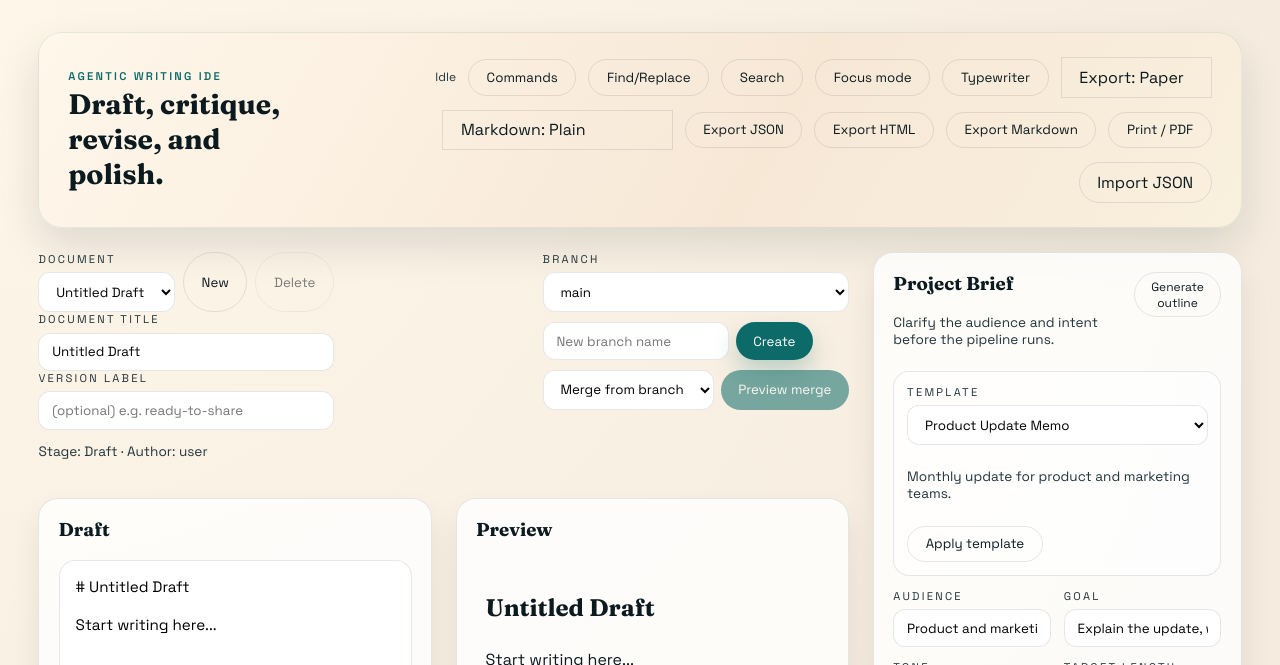
Scenario: App › runs actions from command palette
Click the button "Commands": (522, 77) [468,59,576,96]
(page scrolled)
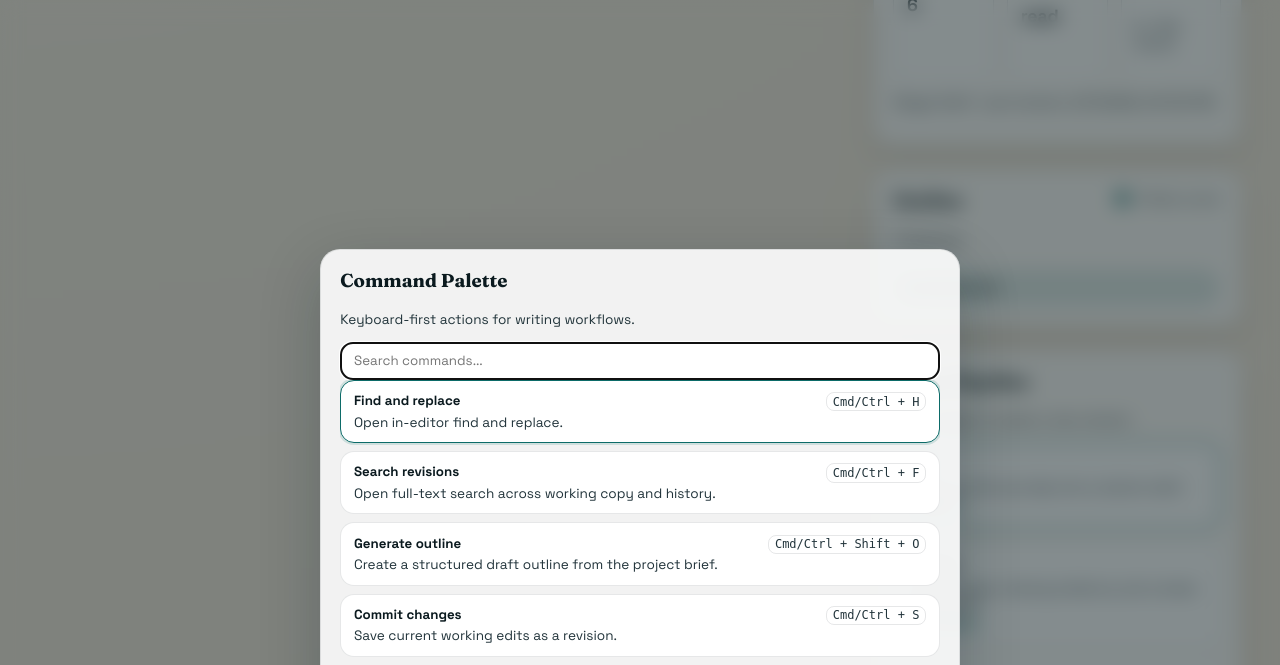
Check: the heading "Command Palette" is shown, box [340,270,507,292]
In the field labelled "Search commands...": (640, 361) [340,342,940,380], type "focus mode"
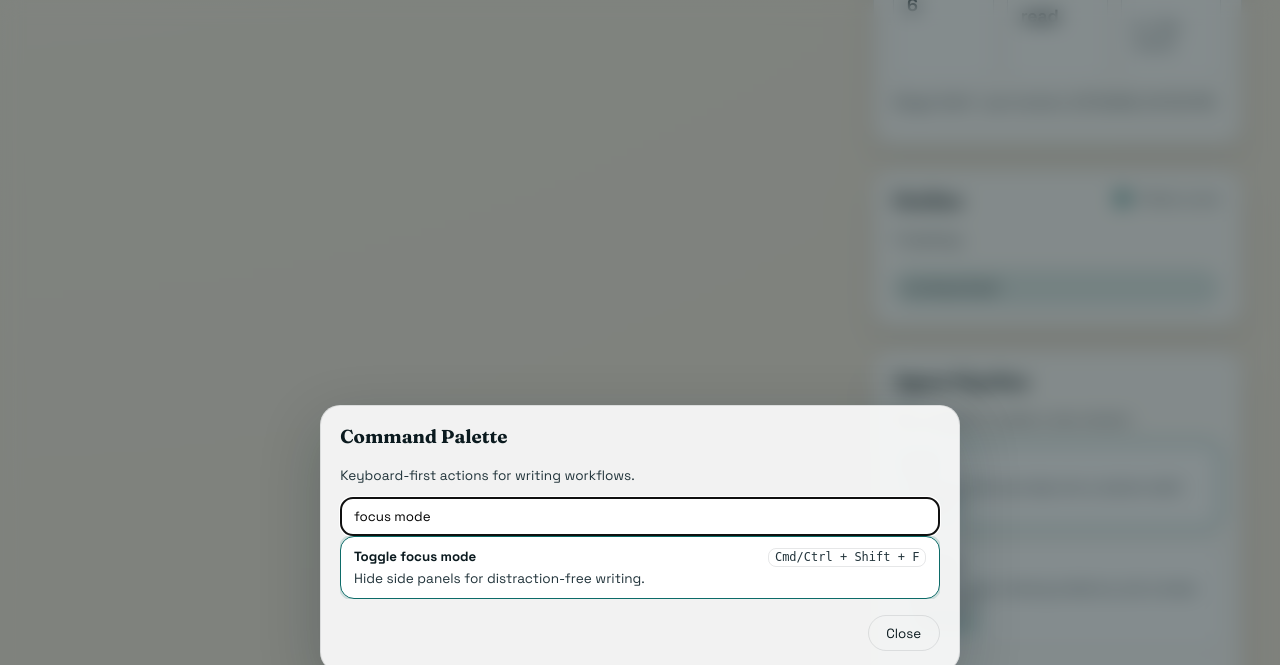
Press Enter in the field named "Search commands", box [340,497,940,536]
(page scrolled)
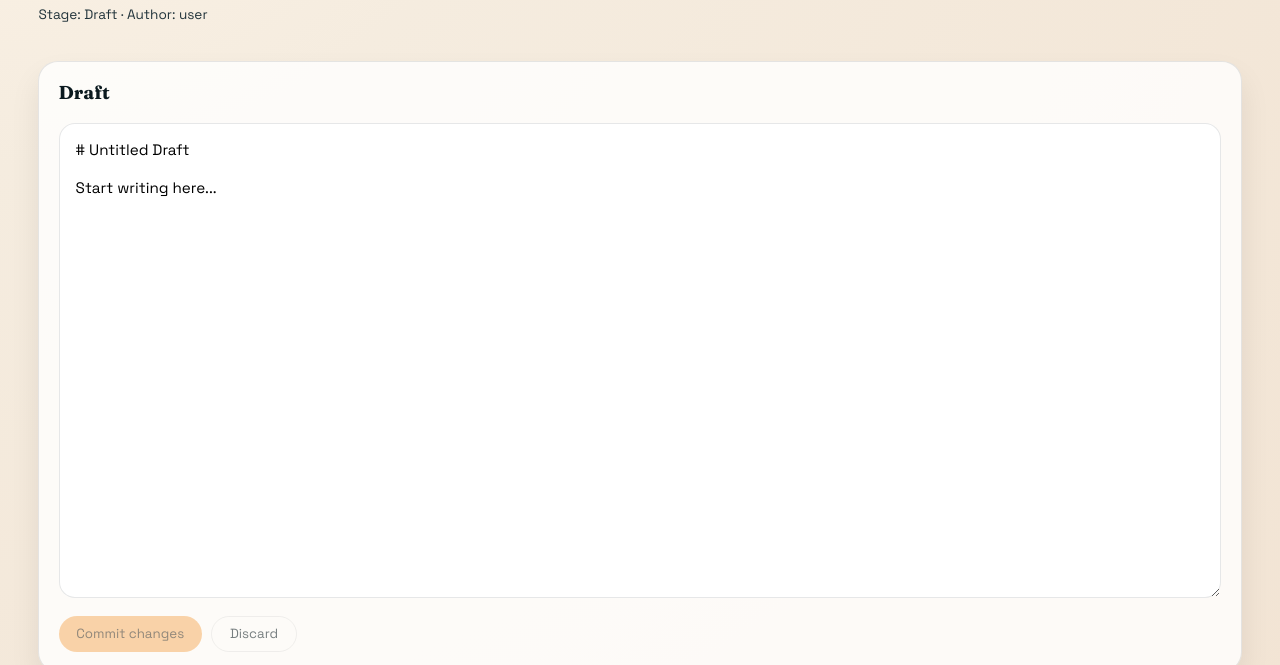
Check: the heading "preview" is not shown
Check: the heading "Command Palette" is gone
